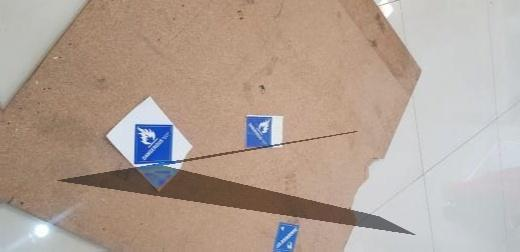dangerous-when-wet: (132, 123, 174, 166), (245, 117, 272, 150), (273, 224, 302, 252)
